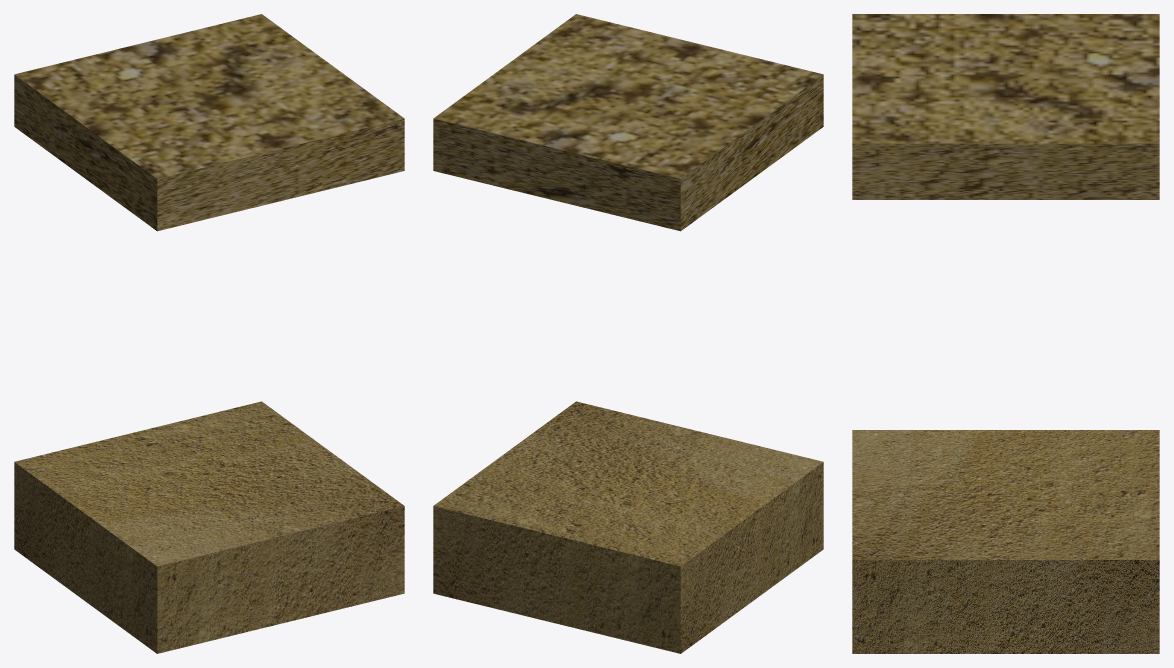
File: SandIndoorFloor.glb
3 renders of one model, left to right at view 1: azimuth 30°, elevation 25°; view 2: azimuth 150°, elevation 25°; view 3: azimuth 270°, elevation 25°, orthographic. The views are drawn at different scales.
Visible parts, largest first — view 1: SolidFloor; view 2: SolidFloor; view 3: SolidFloor.
Part boxes in pixels (bbox=[...]): SolidFloor: bbox=[14, 14, 404, 653]; SolidFloor: bbox=[433, 14, 823, 653]; SolidFloor: bbox=[852, 14, 1159, 653].
Bounding box in the file's own units: 2 × 3.67 × 2.
1 material, 1 textured.
